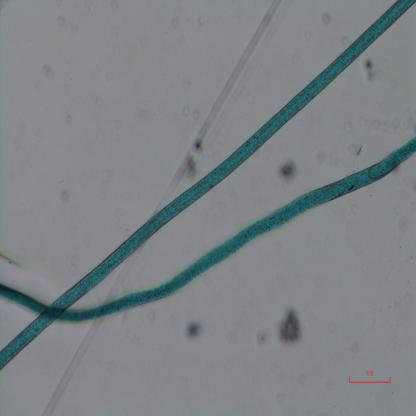Background material: (200, 0, 278, 140), (276, 309, 306, 352), (181, 137, 203, 181), (181, 320, 206, 343), (276, 160, 298, 184), (363, 57, 374, 85)
Microfibre: (0, 0, 416, 372), (0, 132, 416, 324)
